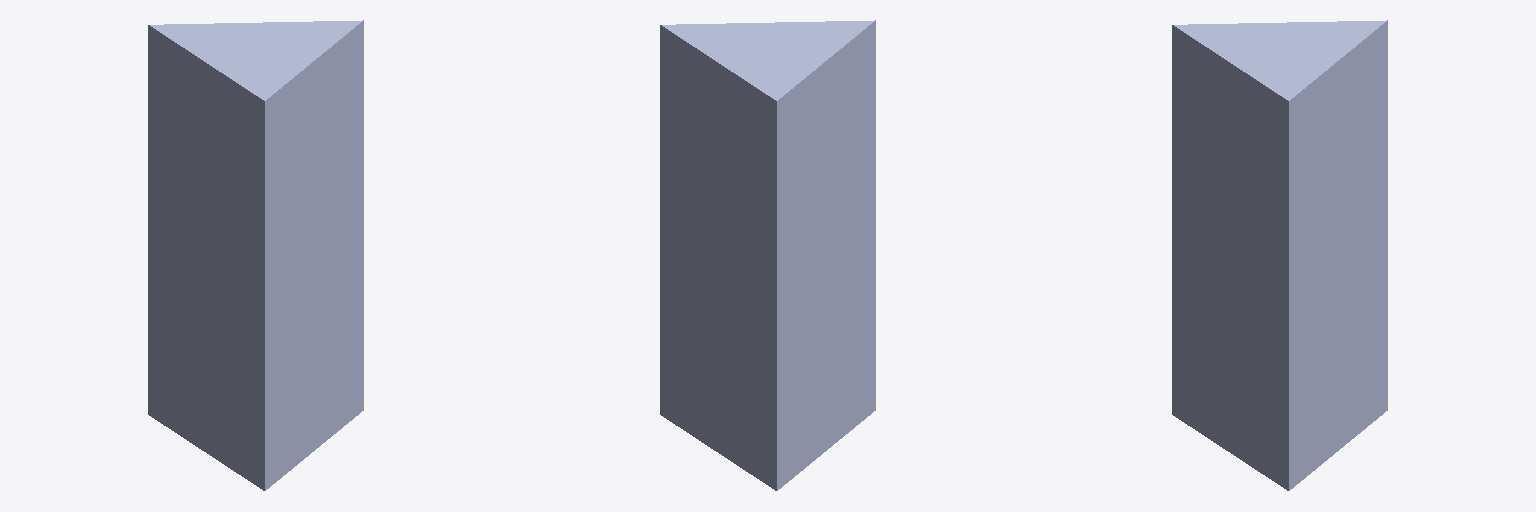
URDF robot description (tri_ver2):
<?xml version="1.0"?>
<robot
  name="tri_ver2">
  <link
    name="triangulo_link">
    <inertial>
      <origin
        xyz="0.022283 0.05 0.098594"
        rpy="0 0 0" />
      <mass
        value="0.10825" />
      <inertia
        ixx="15"
        ixy="-8.807E-21"
        ixz="-1.0857E-19"
        iyy="15"
        iyz="9.5218E-21"
        izz="15" />
    </inertial>
    <visual>
      <origin
        xyz="-0.1 0 0"
        rpy="0 0 1.15" />
      <geometry>
        <mesh
          filename="package://brazo/meshes/triangulo_link.STL" />
      </geometry>
      <material
        name="">
        <color
          rgba="0.79216 0.81961 0.93333 1" />
      </material>
    </visual>
    <collision>
      <origin
        xyz="-0.1 0 0"
        rpy="0 0 1.15" />
      <geometry>
        <mesh
          filename="package://brazo/meshes/triangulo_link.STL" />
      </geometry>
    </collision>
  </link>

  <gazebo reference="triangulo_link">
    <material>Gazebo/Red</material>
    <mu1>100.0</mu1>
    <mu2>100.0</mu2>
    <selfCollide>false</selfCollide>
  </gazebo>
</robot>

--- Facts derived from the render (not from the file) ---
The picture shows the robot from 3 angles, left to right: view 1: azimuth 30°, elevation 25°; view 2: azimuth 150°, elevation 25°; view 3: azimuth 270°, elevation 25°; orthographic projection.
Model tri_ver2 with 1 links and 0 joints (none), rooted at triangulo_link, posed every joint at zero.
Visible links, largest first — view 1: triangulo_link; view 2: triangulo_link; view 3: triangulo_link.
Boxes of the visible links, bbox=[...] form: triangulo_link: bbox=[148, 20, 363, 490]; triangulo_link: bbox=[660, 20, 875, 490]; triangulo_link: bbox=[1172, 20, 1387, 490].
Bounding box of the posed robot: 0.0444 × 0.0499 × 0.1 m (x, y, z).
1 mesh visuals loaded from 1 distinct referenced files (1 binary STL).